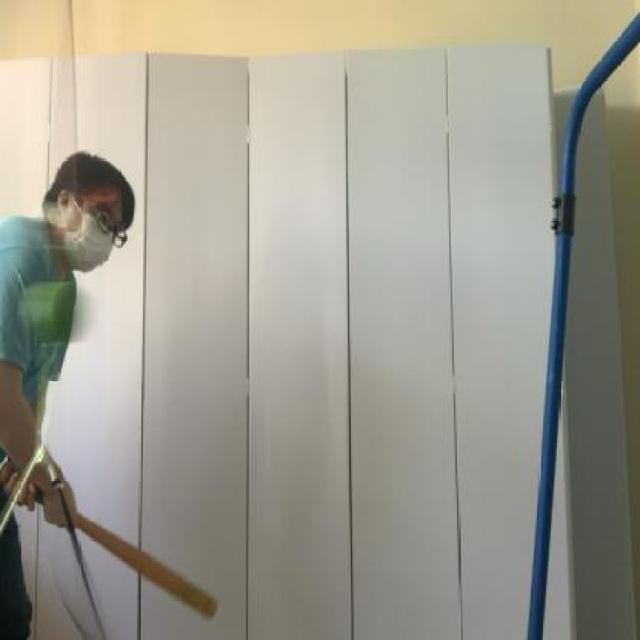baseball: (21, 274, 108, 349)
